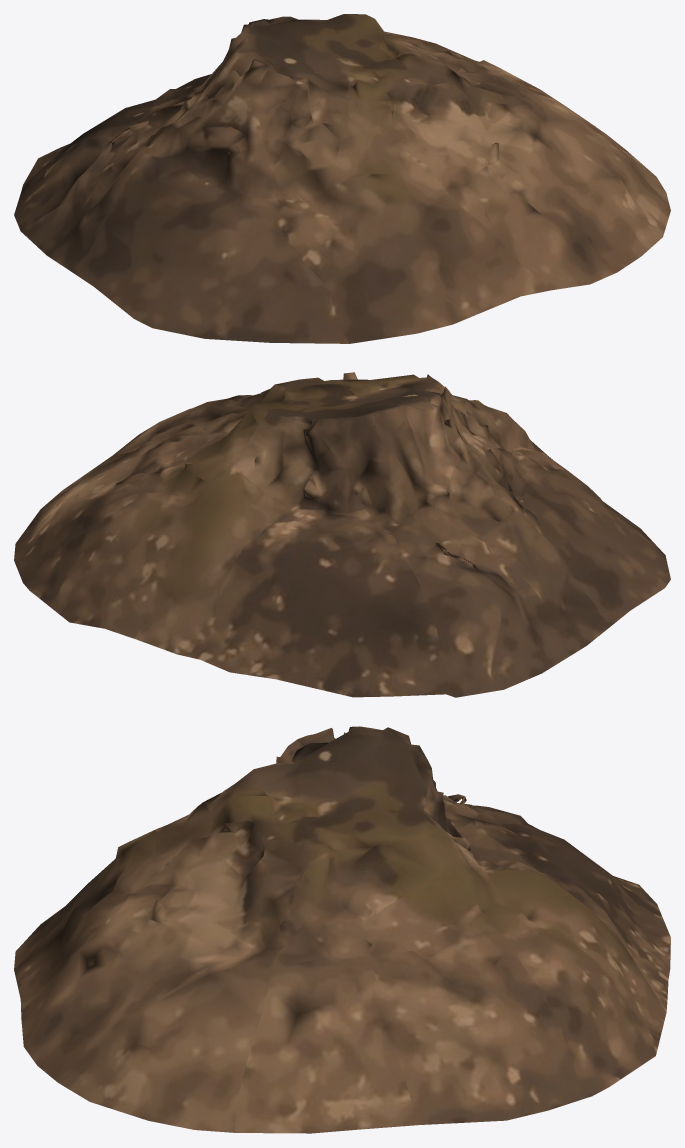
Rendered from toco2.glb.
The picture shows the model from 3 angles, top to bottom: view 1: azimuth 30°, elevation 25°; view 2: azimuth 150°, elevation 25°; view 3: azimuth 270°, elevation 25°; orthographic projection. The views are drawn at different scales.
Parts seen in each view (by area): view 1: tree_stump_02; view 2: tree_stump_02; view 3: tree_stump_02.
Boxes of the visible parts, x1,y1,x2,y2 form: tree_stump_02: [14, 14, 670, 343]; tree_stump_02: [14, 372, 670, 697]; tree_stump_02: [14, 726, 670, 1133].
Size of the model in its own units: 1.52 by 0.5184 by 1.39.
1 material, 1 textured.
